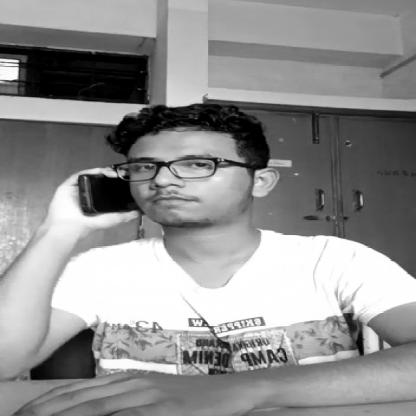Distracted: (110, 112, 302, 230)
